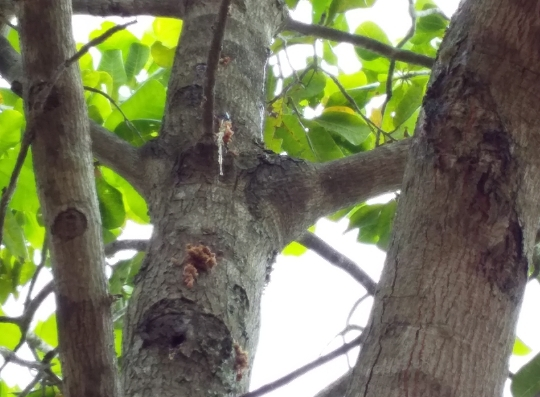Apate terebrans: (159, 317, 195, 354)
